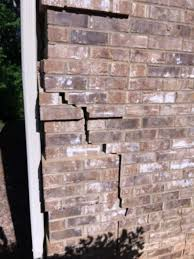stairstep_crack: (39, 70, 129, 231)
